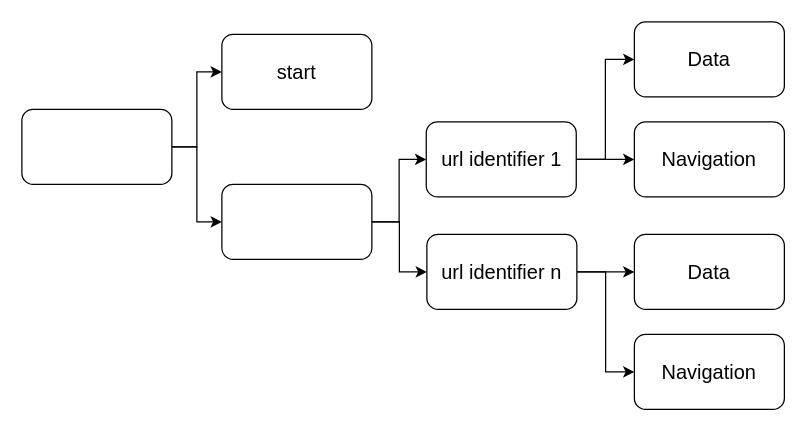
Image size: 806x431. Some labels were removed from this diagram. Each missing label, with the centre of its shape:
config.json: the point at 96,146
param: the point at 296,221
